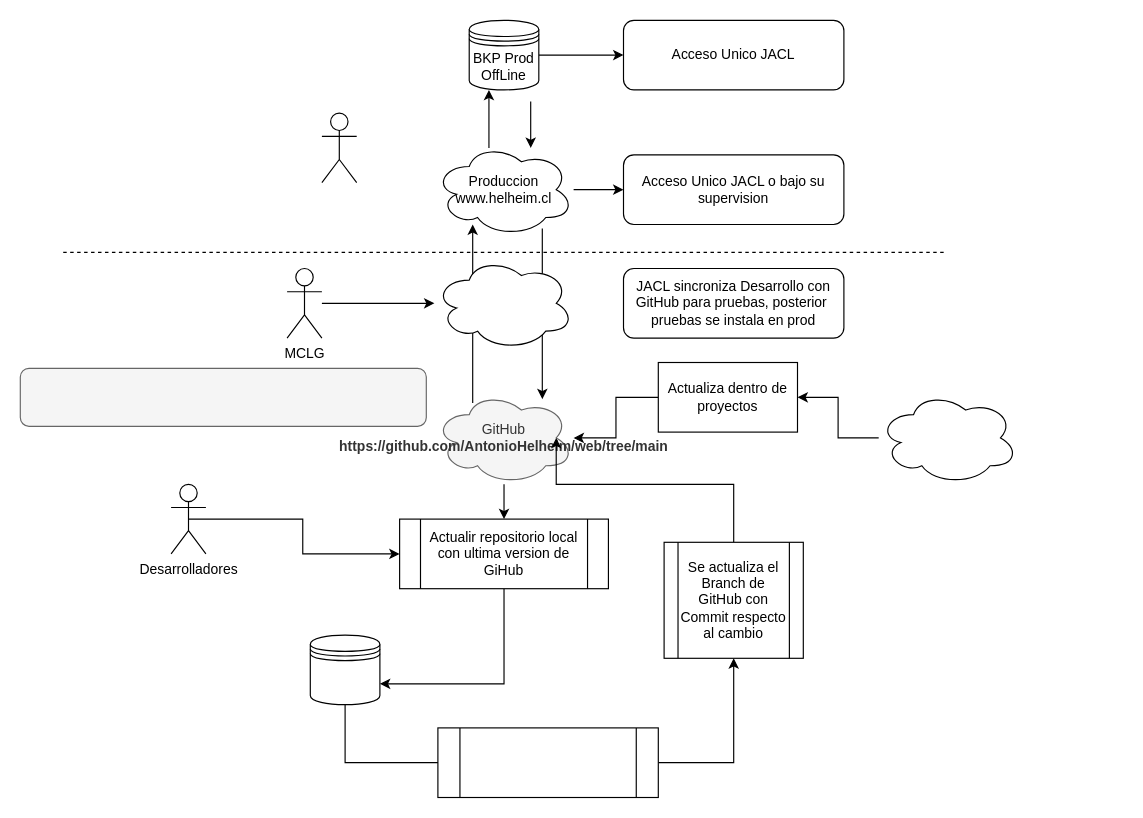
Some shapes in this 1143 by 818 pixel diagram are drawn without their labels. Here are the shapes that lost their labels. From the top down, the centre of each, then its label:
point 339,147: JACL
point 503,303: Desarrollo y pruebas https://www.helheim.cl/des/
point 222,396: Ante cambios en GitHub se debe informar para cargar los cambios en Desarrollo
point 948,437: GitHub Repo CFT https://github.com/AntonioHelheim/CFTdeMagallanes.git
point 344,669: Copia localhost en carpeta web o public_html
point 547,762: Desarrollo local y pruebas en local host
